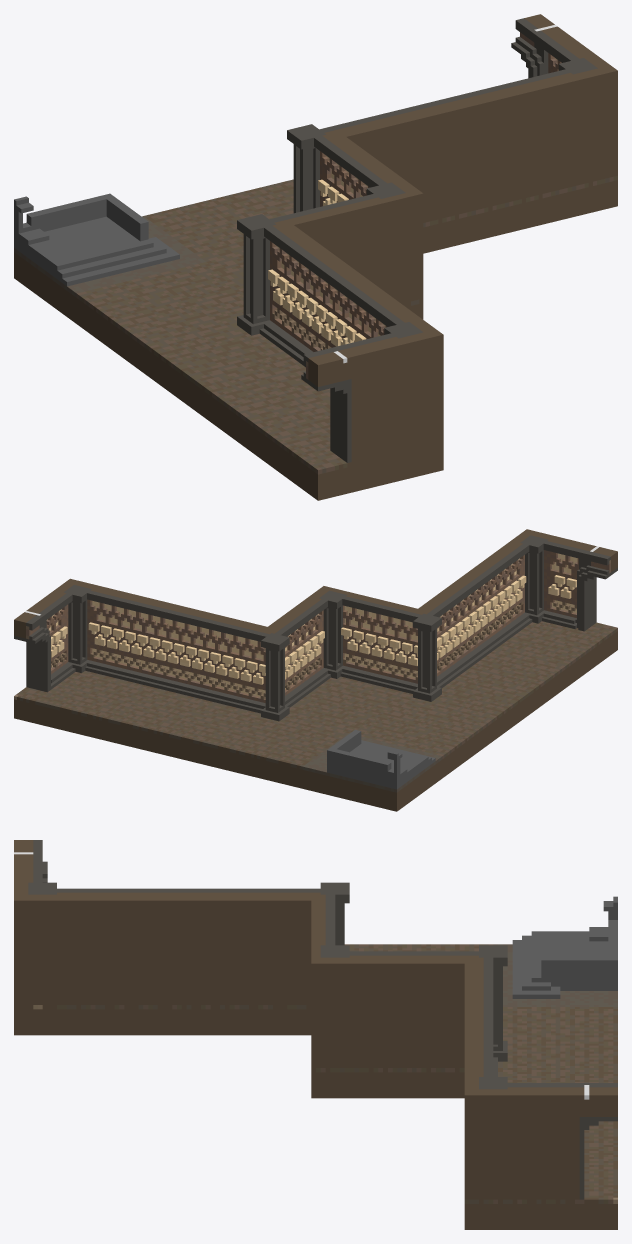
Rendered from SpeechRoom-1.obj.
The picture shows the model from 3 angles, top to bottom: view 1: azimuth 30°, elevation 25°; view 2: azimuth 150°, elevation 25°; view 3: azimuth 270°, elevation 25°; orthographic projection. The views are drawn at different scales.
Bounding box in the file's own units: 12.6 × 3.1 × 12.6.
Materials: 1 (1 with a texture image).
